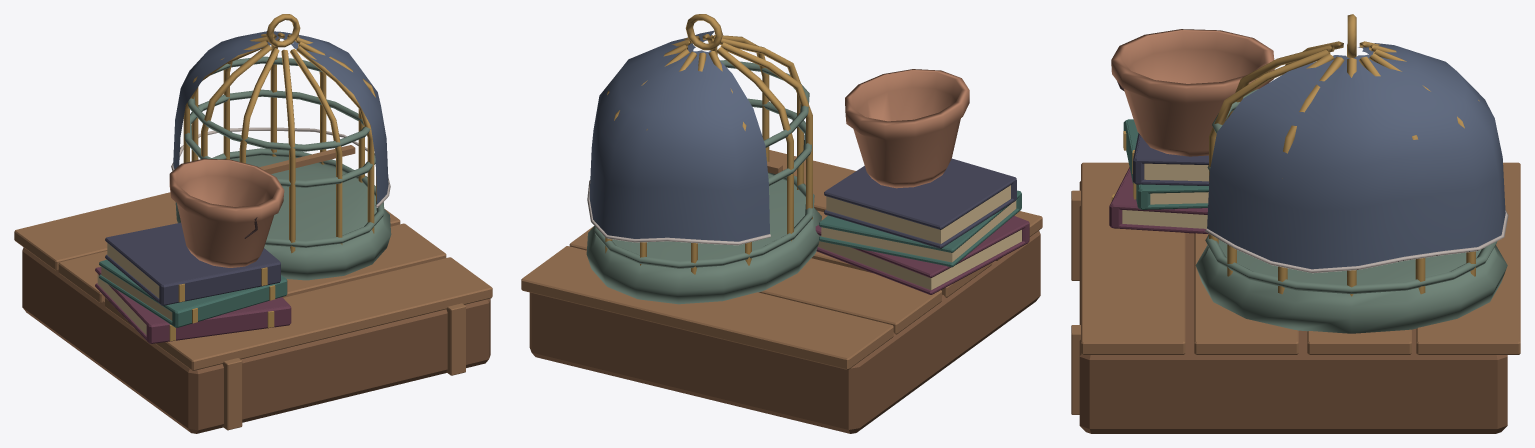
File: junk_3.glb
3 views of the same model, side by side, from view 1: azimuth 30°, elevation 25°; view 2: azimuth 150°, elevation 25°; view 3: azimuth 270°, elevation 25° (orthographic). The views are drawn at different scales.
Parts seen in each view (by area): view 1: junk_3; view 2: junk_3; view 3: junk_3.
Part boxes in pixels (box(x1,y1,x2,y2)): junk_3: box(14, 14, 492, 433); junk_3: box(521, 14, 1042, 433); junk_3: box(1071, 14, 1520, 433).
Bounding box in the file's own units: 0.85 × 0.75 × 0.85.
